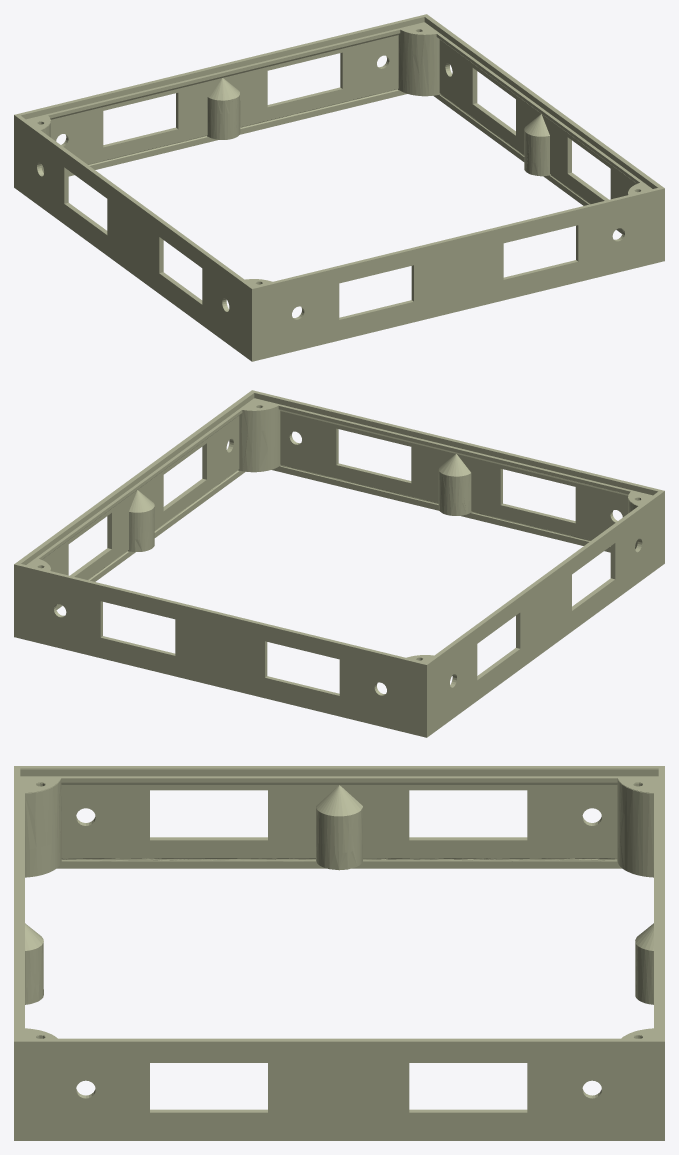
File: tinker.obj
3 views of the same model, one above another, from view 1: azimuth 30°, elevation 25°; view 2: azimuth 150°, elevation 25°; view 3: azimuth 270°, elevation 25° (orthographic). The views are drawn at different scales.
Parts seen in each view (by area): view 1: obj_0; view 2: obj_0; view 3: obj_0.
Part boxes in pixels (x1,y1,x2,y2): obj_0: (14,14,664,361); obj_0: (14,390,664,737); obj_0: (14,766,664,1140).
Bounding box in the file's own units: 166 × 27.9 × 166.
